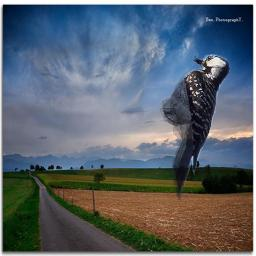Woodpecker: (160, 48, 230, 202)
